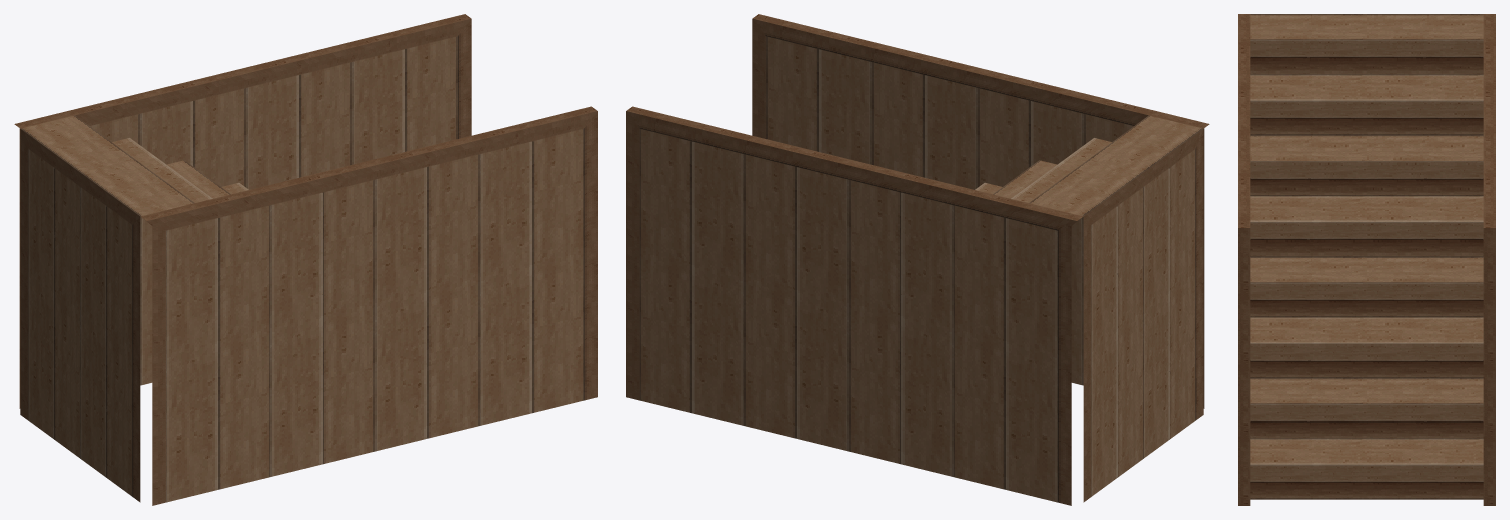
Rendered from kaidan_02.fbx.
The picture shows the model from 3 angles, left to right: view 1: azimuth 30°, elevation 25°; view 2: azimuth 150°, elevation 25°; view 3: azimuth 270°, elevation 25°; orthographic projection. The views are drawn at different scales.
Parts seen in each view (by area): view 1: kaidan_02; view 2: kaidan_02; view 3: kaidan_02.
Boxes of the visible parts, x1,y1,x2,y2 form: kaidan_02: [14, 14, 597, 505]; kaidan_02: [626, 14, 1209, 505]; kaidan_02: [1238, 14, 1495, 505].
Size of the model in its own units: 825 by 500 by 420.
